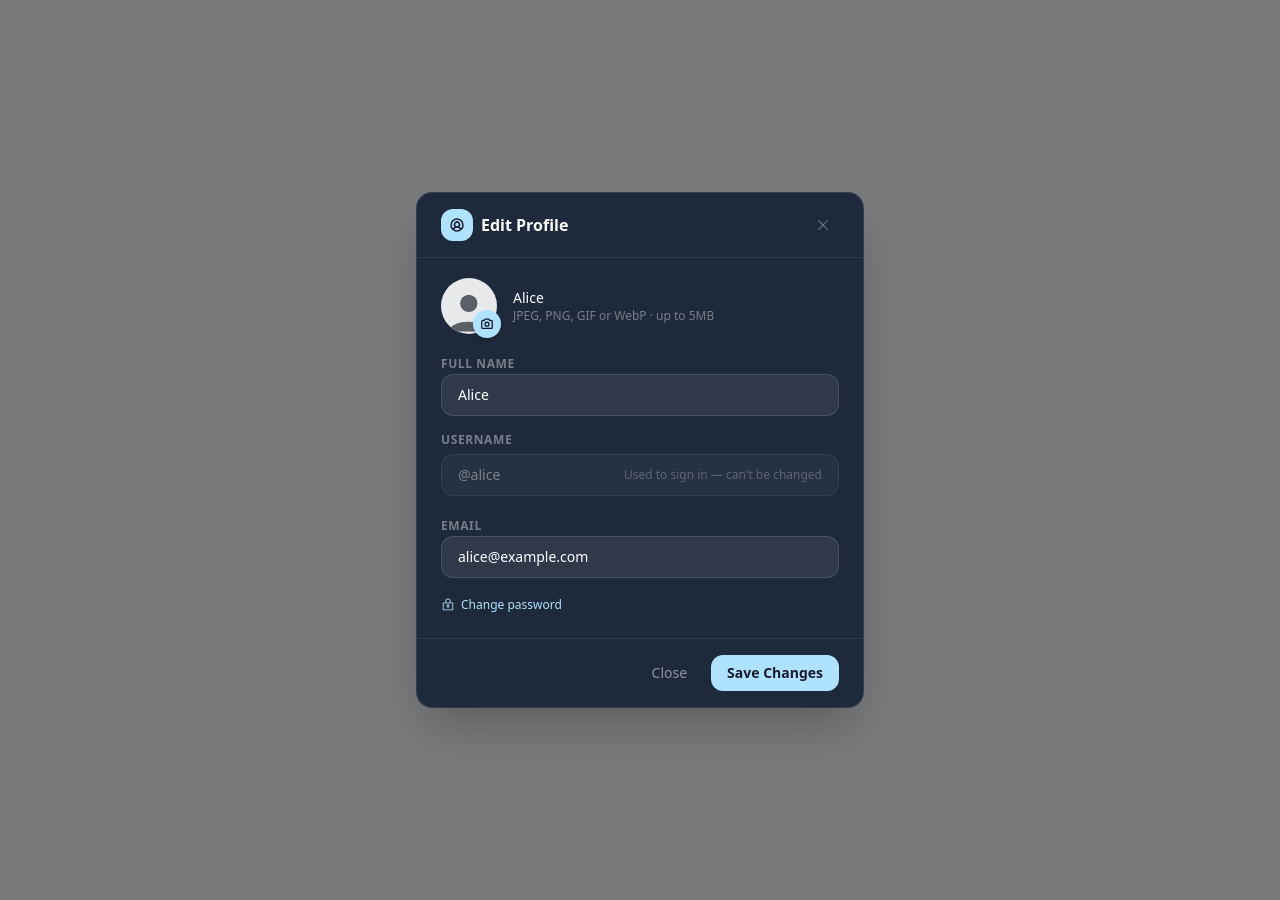
it: text fields › refuses to save with nothing changed
The width and height of the screenshot is (1280, 900).
Click the button "Save Changes" at coordinates (775, 673), box [711,655,839,691]
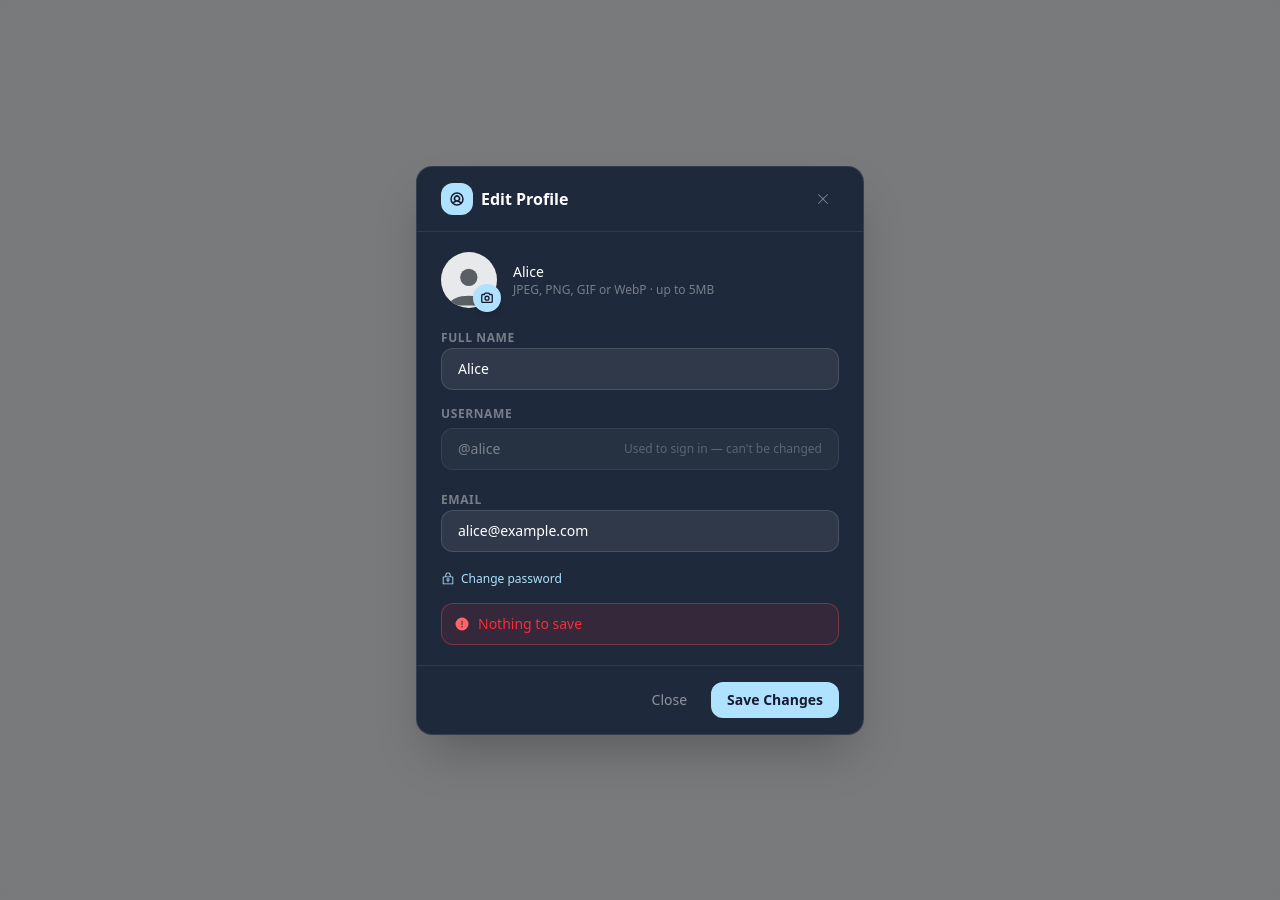
Expected: the text "Nothing to save" is shown, [478,614,582,634]
